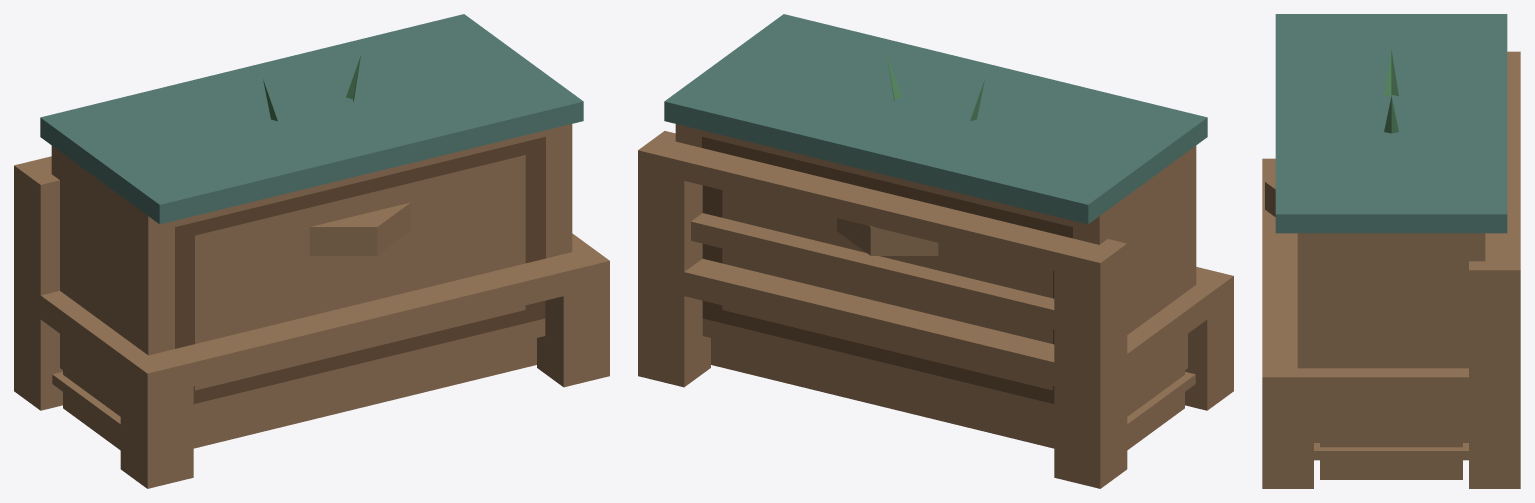
File: props.glb
The picture shows the model from 3 angles, left to right: view 1: azimuth 30°, elevation 25°; view 2: azimuth 150°, elevation 25°; view 3: azimuth 270°, elevation 25°; orthographic projection. The views are drawn at different scales.
Visible parts, largest first — view 1: kitchenBar(Clone), bench(Clone), tableRound(Clone); view 2: kitchenBar(Clone), bench(Clone), tableRound(Clone); view 3: kitchenBar(Clone), bench(Clone), plant, tableRound(Clone).
Boxes of the visible parts, x1,y1,x2,y2 form: kitchenBar(Clone): (40,14,583,450); bench(Clone): (14,156,609,488); tableRound(Clone): (309,202,410,255); kitchenBar(Clone): (664,14,1207,450); bench(Clone): (638,131,1233,488); tableRound(Clone): (837,218,938,255); kitchenBar(Clone): (1275,14,1507,479); bench(Clone): (1262,51,1520,488); plant: (1384,49,1398,133); tableRound(Clone): (1265,174,1275,216).
Bounding box in the file's own units: 1.8 × 1.18 × 0.9.
